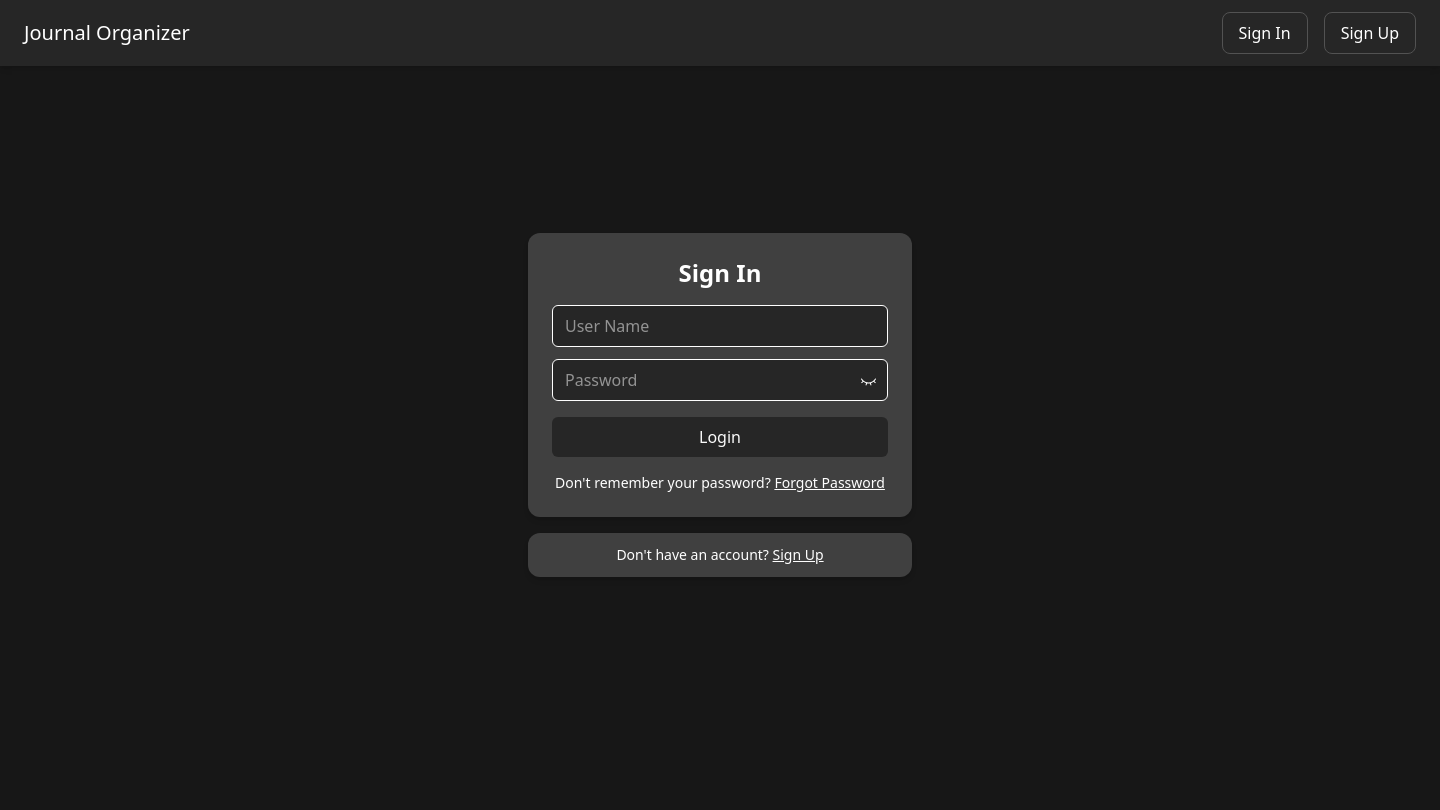
Test case: Login Component › shows validation error when fields are empty
The image size is (1440, 810).
Click the button "Login". click: point(720, 437)
box: [552, 417, 888, 457]
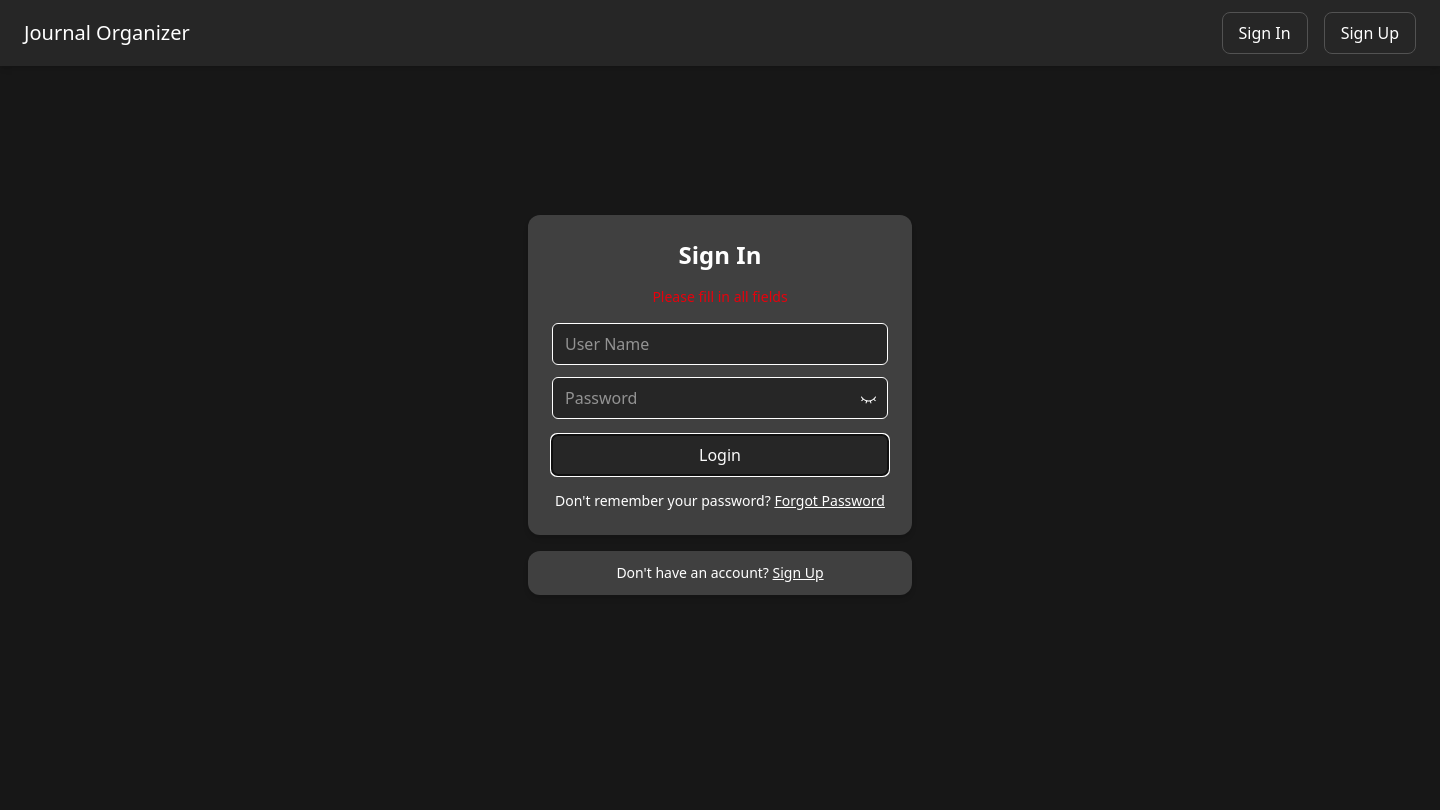
Check: the text "Please fill in all fields" is shown, box [652, 287, 788, 307]
